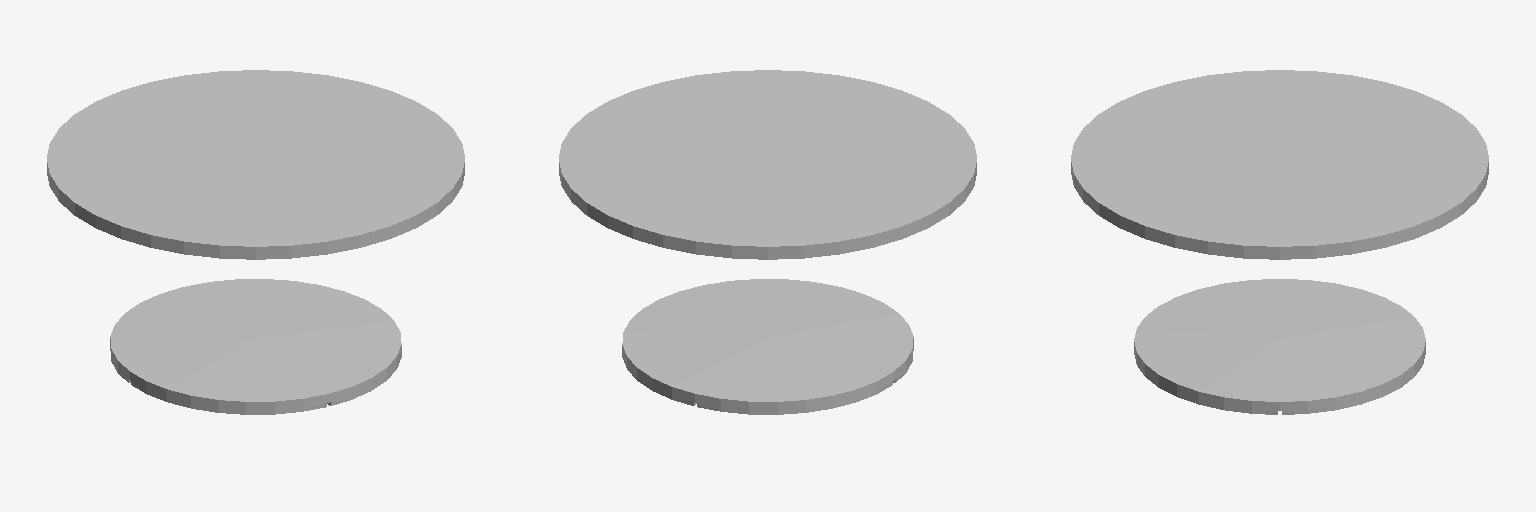
Rendered from Basi Tavolo.obj.
3 views of the same model, side by side, from view 1: azimuth 30°, elevation 25°; view 2: azimuth 150°, elevation 25°; view 3: azimuth 270°, elevation 25° (orthographic).
Parts seen in each view (by area): view 1: Object008, Object011; view 2: Object008, Object011; view 3: Object008, Object011.
Part boxes in pixels (x1,y1,x2,y2): Object008: (47, 70, 464, 259); Object011: (110, 279, 401, 414); Object008: (559, 70, 976, 259); Object011: (622, 279, 913, 414); Object008: (1071, 70, 1488, 259); Object011: (1134, 279, 1425, 414).
Bounding box in the file's own units: 22.17 × 11.39 × 22.15.